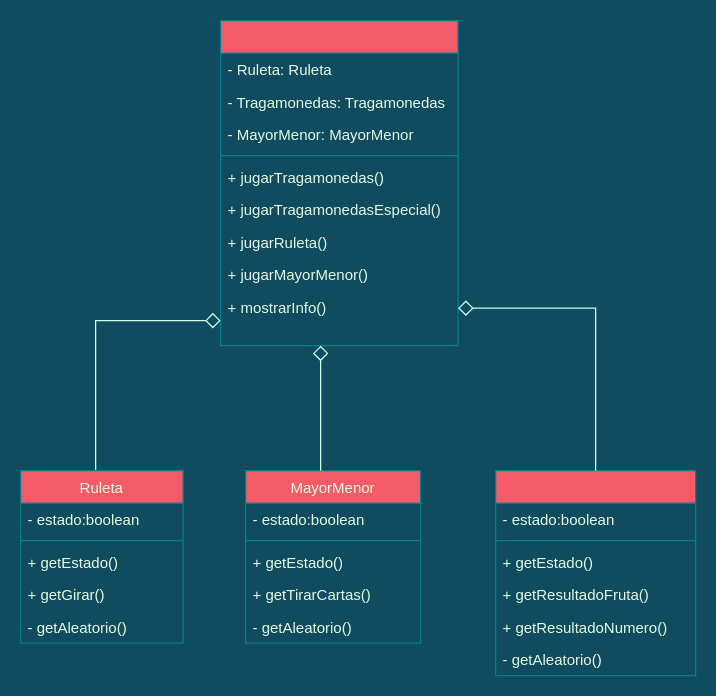
This 716x696 diagram has some shape labels left out. The shapes that lost their labels are listed below. From the top down, each one's box as (x1, y1, x2, y2) in pixels, then its label:
(219, 19, 458, 346): Casino
(494, 469, 696, 676): Tragamonedas
